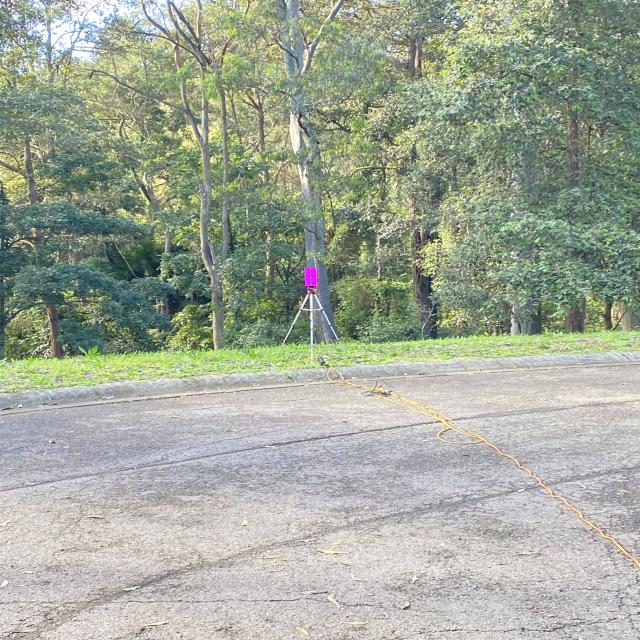matrix: (300, 264, 328, 292)
